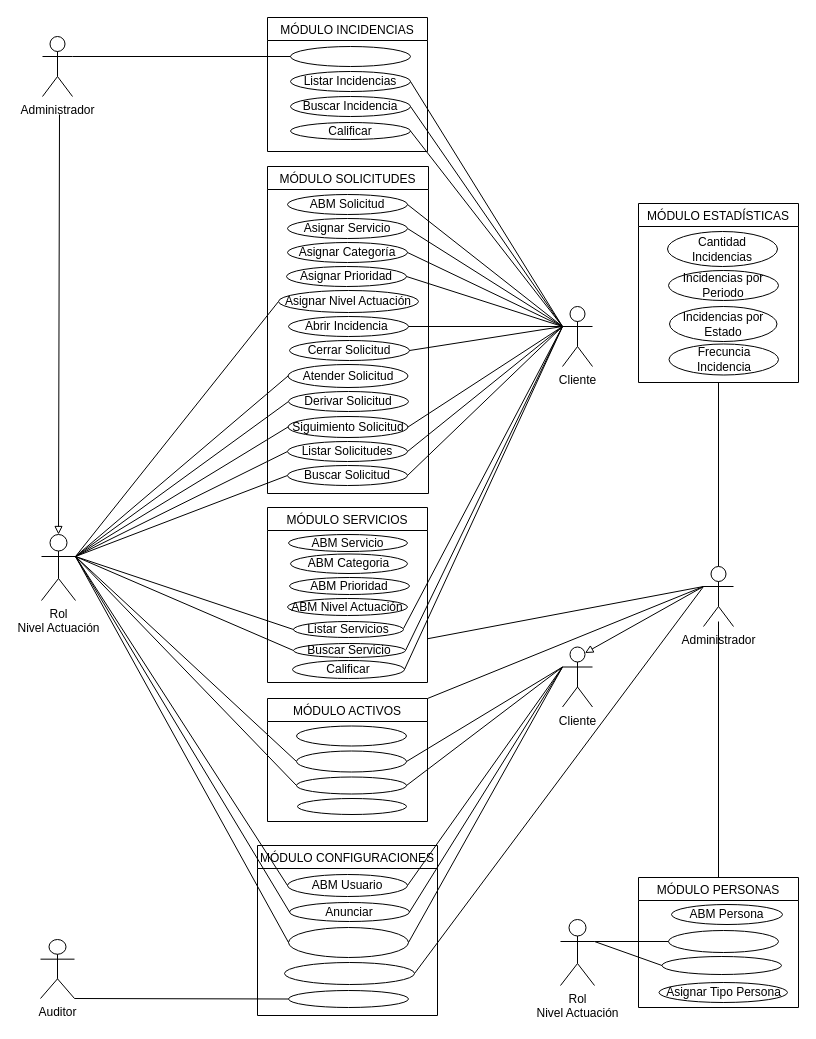
Image size: 816x1039. Some labels were removed from this diagram. The shapes that lost their labels are listed below. From the top down, each one's centre as x and y in pixels, then its label:
(350,56): ABM Incidencia
(351,735): ABM Activo
(351,761): Listar Activos
(351,785): Buscar Activo
(351,806): Asignar Tipo Activo
(348,942): Solicitar Encuesta-Calificación
(723,941): Listar Personas
(349,973): Asignar Permiso-Rol
(721,965): Buscar Persona
(348,999): Auditoría
